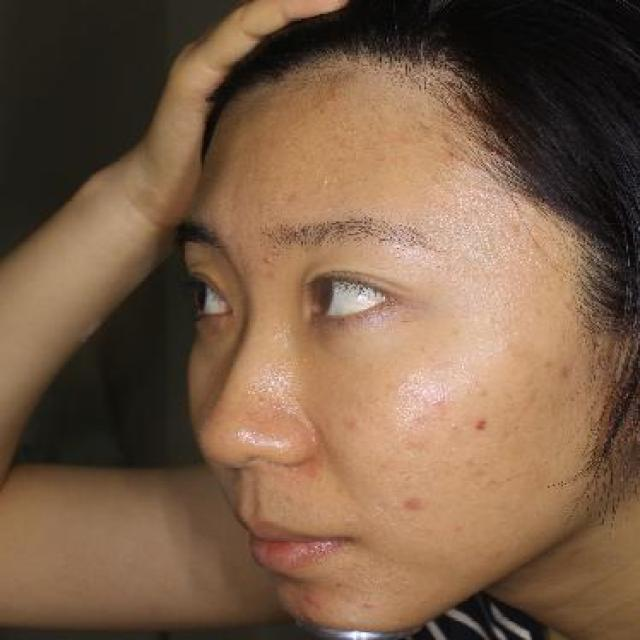dark spot: (397, 490, 433, 516), (555, 358, 580, 384), (470, 414, 494, 435)
papules: (304, 588, 326, 606), (361, 596, 382, 612)
whiteheads: (472, 383, 494, 402), (447, 420, 460, 434)
